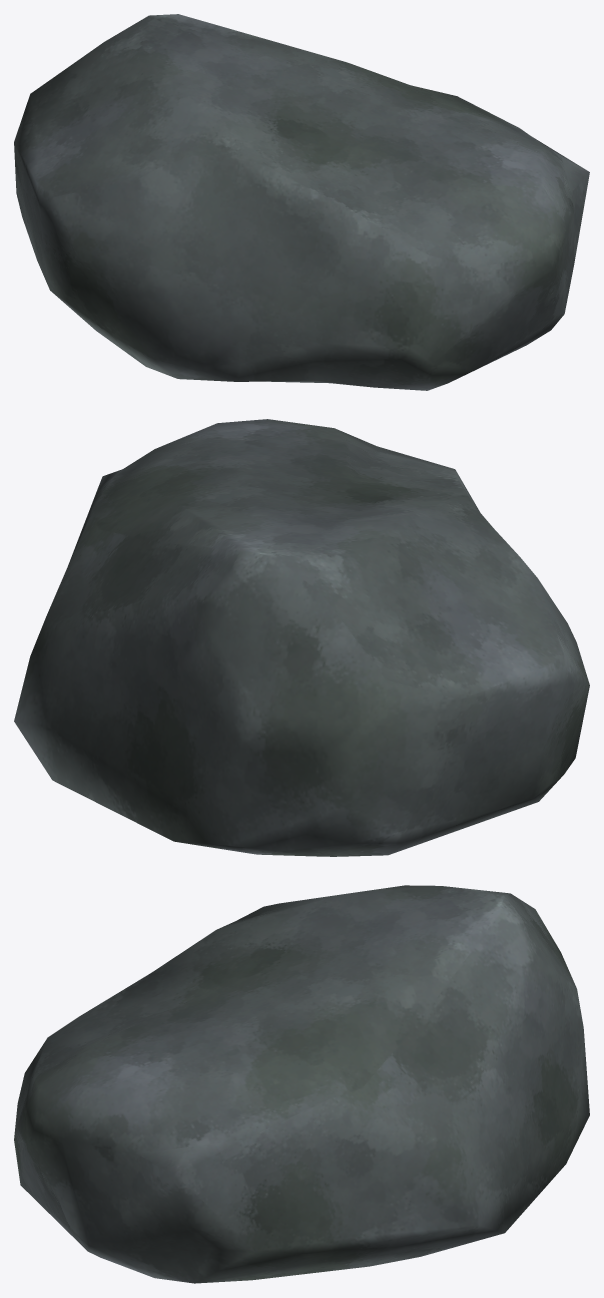
File: rock_04.fbx
The picture shows the model from 3 angles, top to bottom: view 1: azimuth 30°, elevation 25°; view 2: azimuth 150°, elevation 25°; view 3: azimuth 270°, elevation 25°; orthographic projection. The views are drawn at different scales.
Parts seen in each view (by area): view 1: rock_04; view 2: rock_04; view 3: rock_04.
Part boxes in pixels (x1,y1,x2,y2): rock_04: [14, 14, 589, 390]; rock_04: [14, 419, 589, 856]; rock_04: [14, 885, 589, 1283].
Bounding box in the file's own units: 156 × 81.24 × 156.
